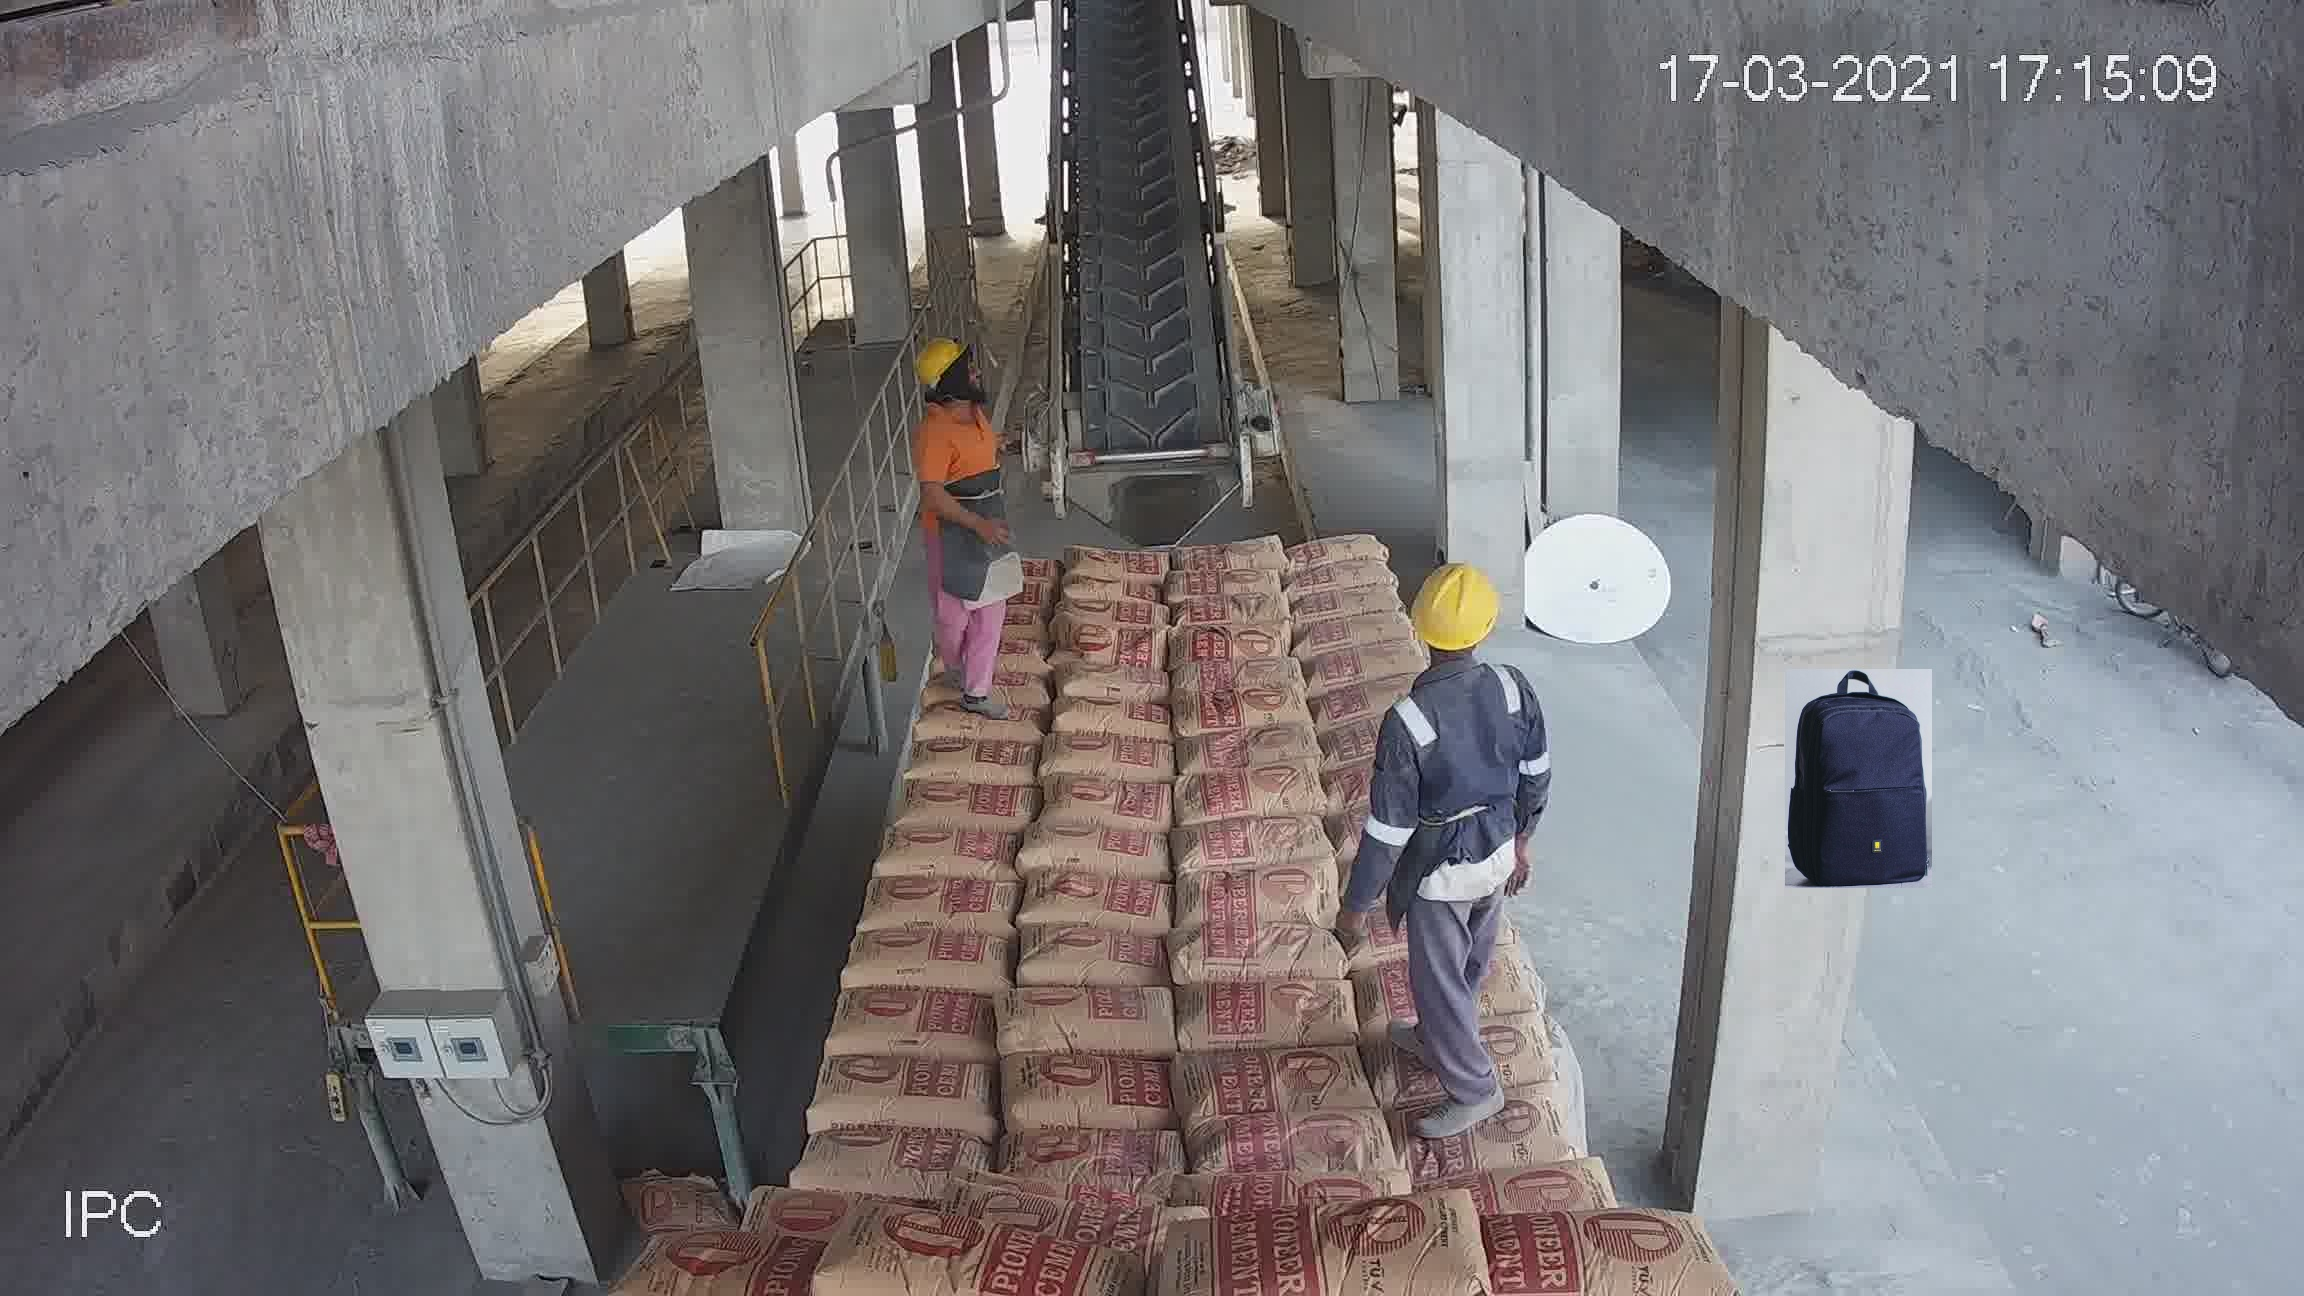bag_h: (1195, 1204, 1508, 1296), (809, 1218, 1124, 1294), (1442, 1211, 1701, 1291), (1394, 1087, 1579, 1182), (802, 1055, 1013, 1138), (635, 1223, 853, 1294), (1188, 1046, 1367, 1131), (1203, 1112, 1396, 1190), (1173, 976, 1366, 1052), (1005, 1051, 1185, 1131), (995, 1120, 1196, 1192), (1000, 986, 1187, 1062), (829, 980, 1006, 1059), (853, 870, 1029, 946), (788, 1125, 1000, 1187), (1173, 924, 1358, 994), (1431, 1158, 1611, 1225), (836, 927, 1011, 994), (1177, 861, 1337, 934), (1176, 807, 1337, 877), (1180, 756, 1329, 824), (1022, 817, 1165, 885), (1024, 875, 1182, 934), (1014, 934, 1176, 991), (1044, 774, 1184, 836), (894, 782, 1041, 836), (904, 736, 1046, 791), (873, 829, 1021, 881), (1165, 654, 1310, 706), (908, 703, 1057, 752), (1305, 630, 1418, 687), (1180, 687, 1317, 733), (1188, 725, 1320, 772), (1051, 739, 1179, 786), (1060, 657, 1176, 707), (1067, 612, 1166, 671), (1168, 619, 1293, 665), (1301, 609, 1402, 663), (1302, 673, 1413, 722), (1052, 698, 1161, 744), (1063, 540, 1173, 582), (1166, 590, 1290, 627), (1176, 529, 1307, 562), (1288, 557, 1397, 597), (1288, 524, 1393, 565), (1301, 582, 1400, 622), (1169, 567, 1282, 601), (1054, 574, 1165, 608), (1060, 600, 1173, 631)
belt: (1041, 17, 1237, 481)
